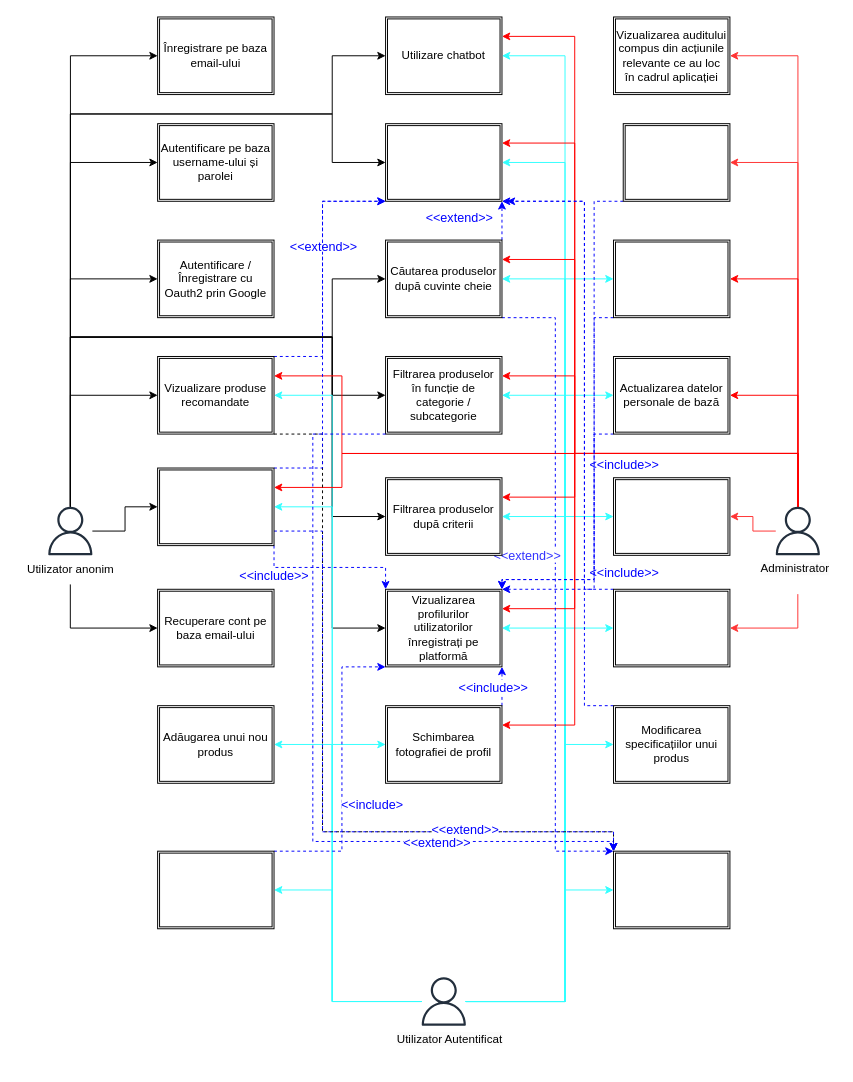
Image size: 853x1082. Some labels were removed from this diagram. The shapes that lost their labels are listed below. From the top down, each one's box as (x1, y1, x2, y2) in pixels, then its label:
(385, 123, 502, 201): Vizualizare produs individual
(622, 123, 730, 201): Restrictionarea unui utilizator
(613, 239, 730, 318): Actualizarea datelor importante (username, email, parolă)
(157, 467, 274, 546): Vizualizarea produselor adăugate de alți utilizatori
(613, 477, 730, 555): Deconectarea de pe platformă
(613, 588, 730, 667): Ștergerea unui produs
(157, 850, 274, 929): Vizualizarea produselor favorite
(613, 850, 730, 929): Adăugarea produselor la lista de favorite
